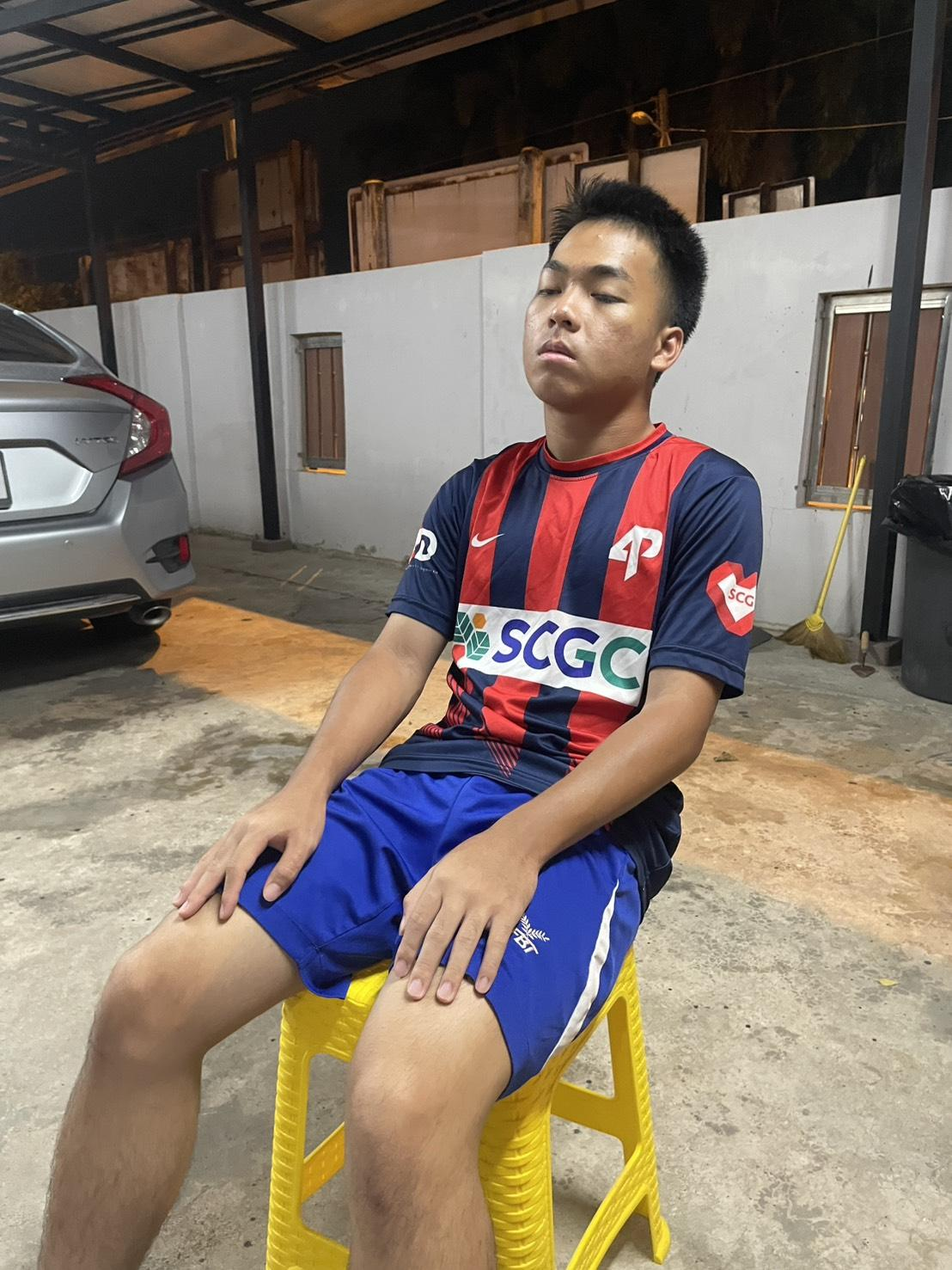BadPosture: (173, 180, 760, 1082)
